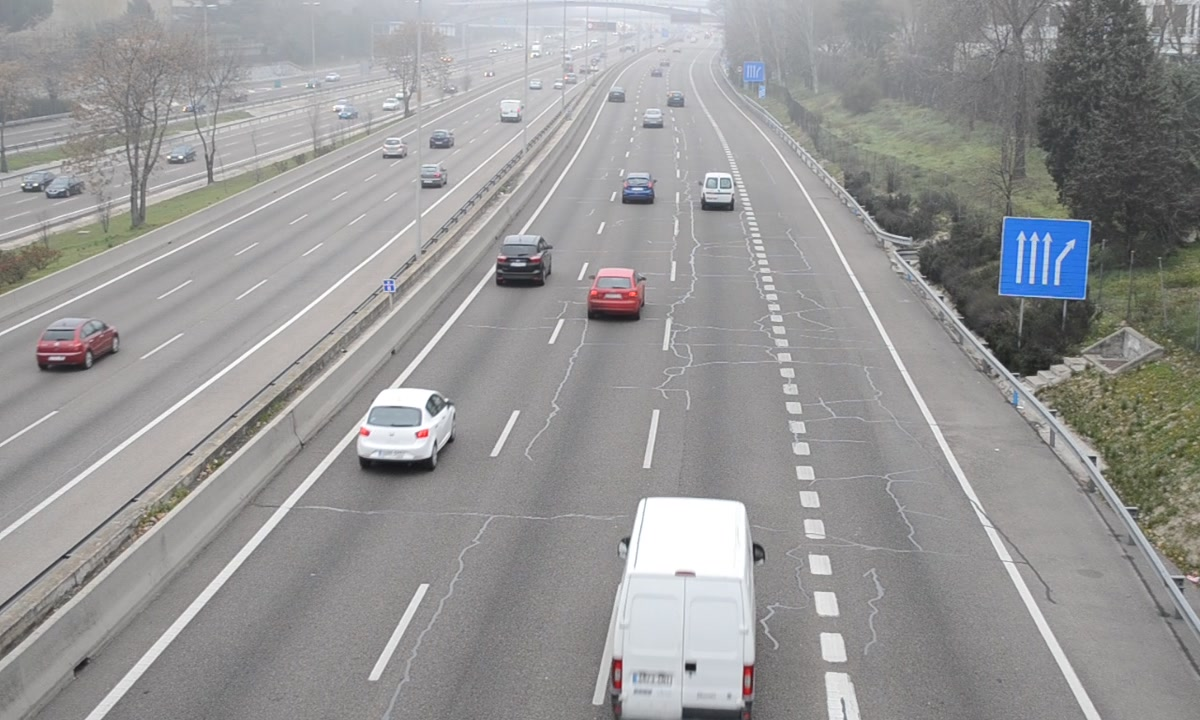car: (359, 388, 453, 464), (588, 267, 641, 317), (496, 235, 547, 283), (622, 172, 655, 205)
van: (609, 498, 757, 720), (701, 171, 734, 209)
